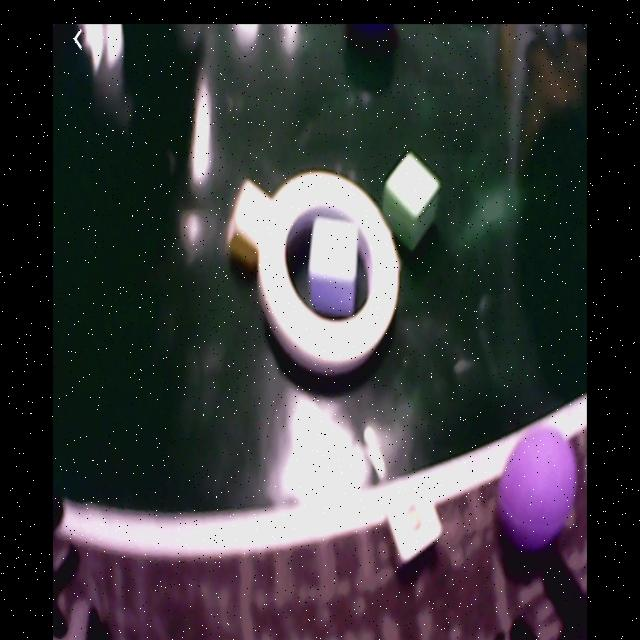ball: (500, 424, 577, 555)
